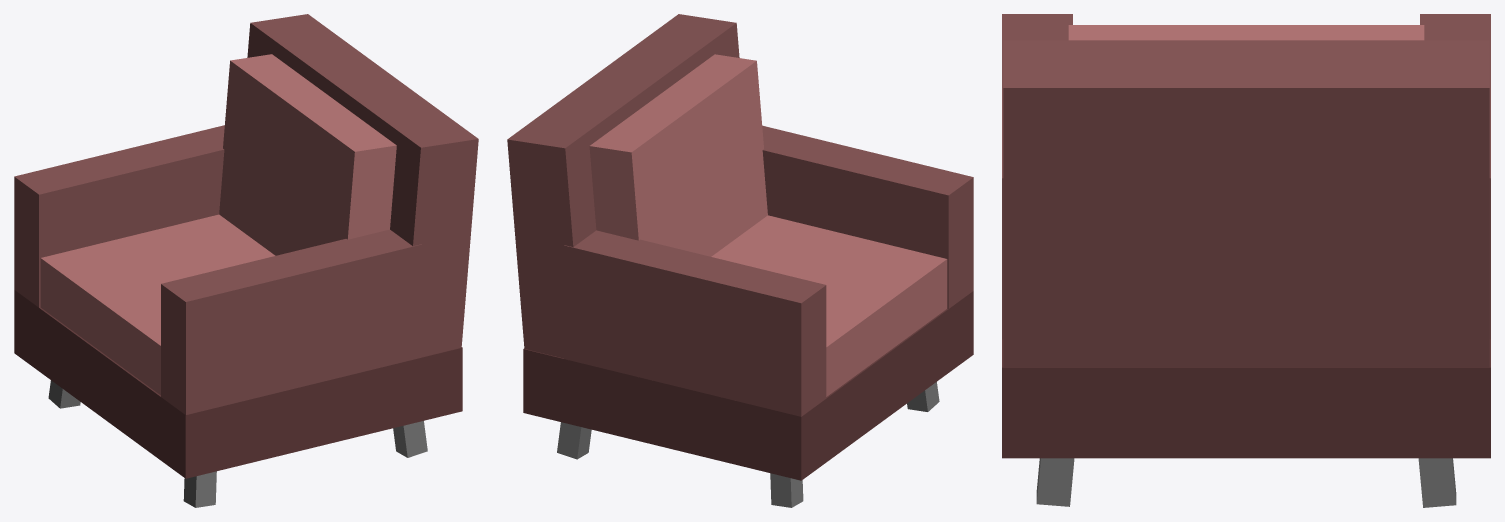
The model's file is vegas-chair-2.glb.
3 renders of one model, left to right at view 1: azimuth 30°, elevation 25°; view 2: azimuth 150°, elevation 25°; view 3: azimuth 270°, elevation 25°, orthographic. The views are drawn at different scales.
Parts seen in each view (by area): view 1: Roblox reference geometry; view 2: Roblox reference geometry; view 3: Roblox reference geometry.
Boxes of the visible parts, x1,y1,x2,y2 form: Roblox reference geometry: (14,14,478,507); Roblox reference geometry: (507,14,973,507); Roblox reference geometry: (1002,14,1490,507).
Bounding box in the file's own units: 4.13 × 4.31 × 4.18.
